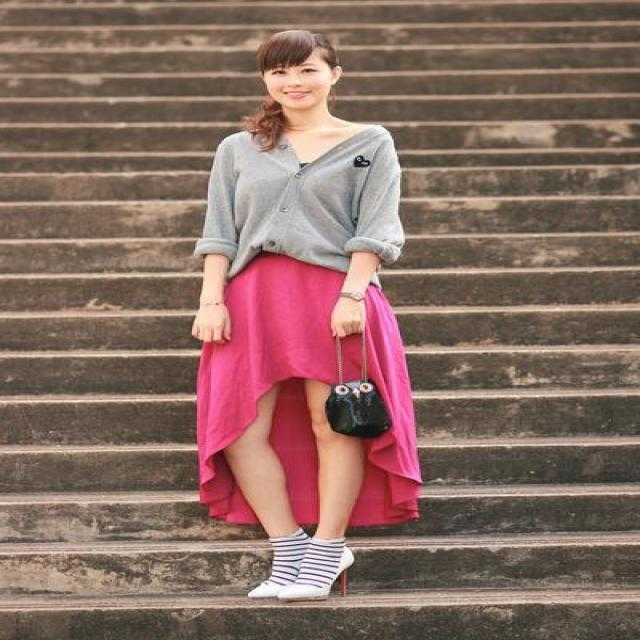bag: (310, 378, 390, 439)
shirt: (172, 123, 402, 277)
shoe: (236, 548, 354, 598)
skirt: (192, 244, 432, 540)
